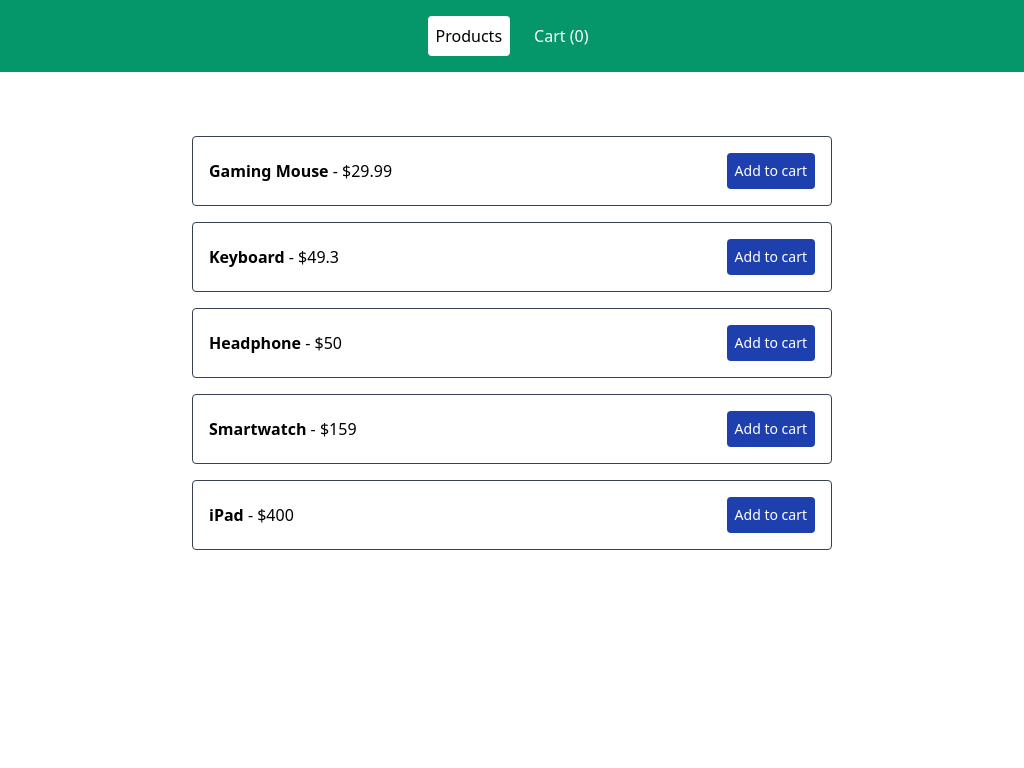
Test: Shoppee Cart › able to add products to cart
The image size is (1024, 768).
Click the button "Add to cart" in the row of "- $29.99" at (771, 171), box [727, 153, 815, 189]
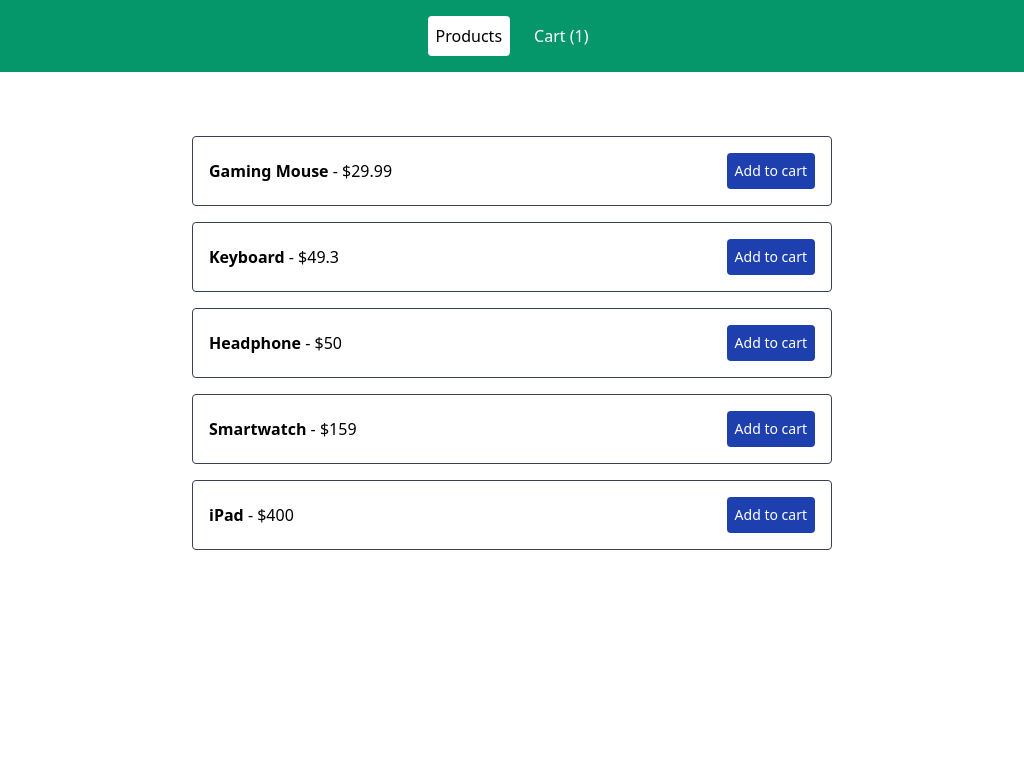
Expected: the link "Cart (1)" is shown
Click the link with test id "nav-cart" at (561, 36), box [534, 25, 588, 47]
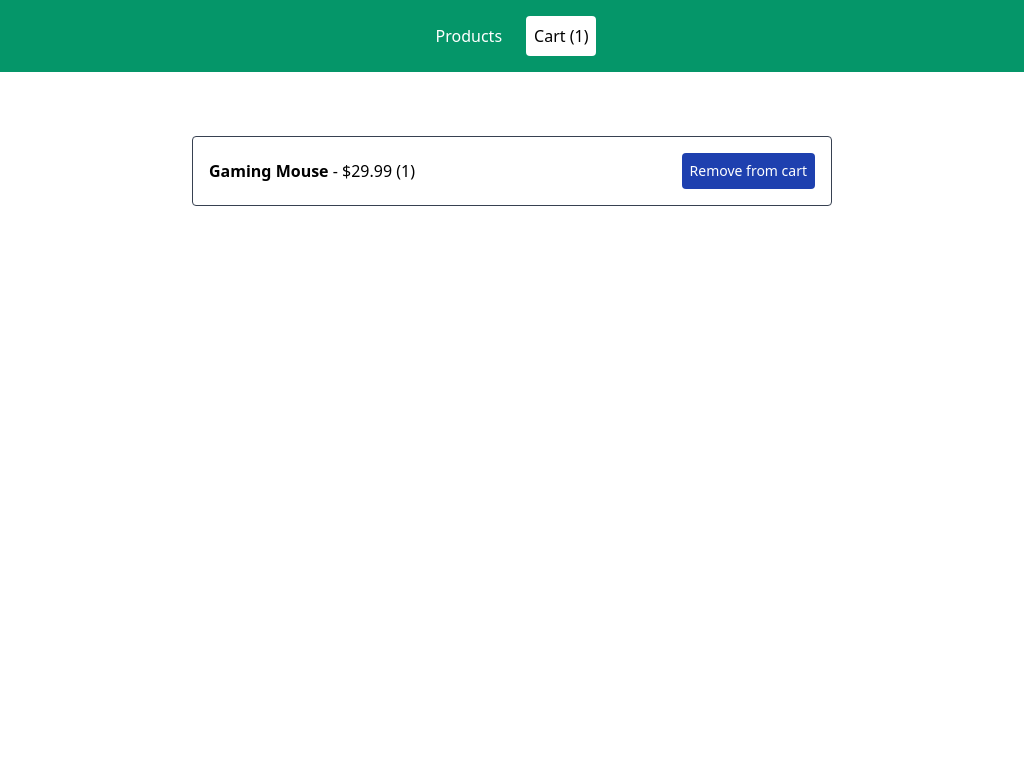
Expected: the number of elements with test id "product-item" is 1, [192, 136, 832, 206]
